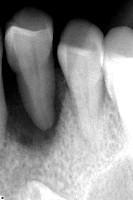Dental Caries: (7, 74, 66, 151)
